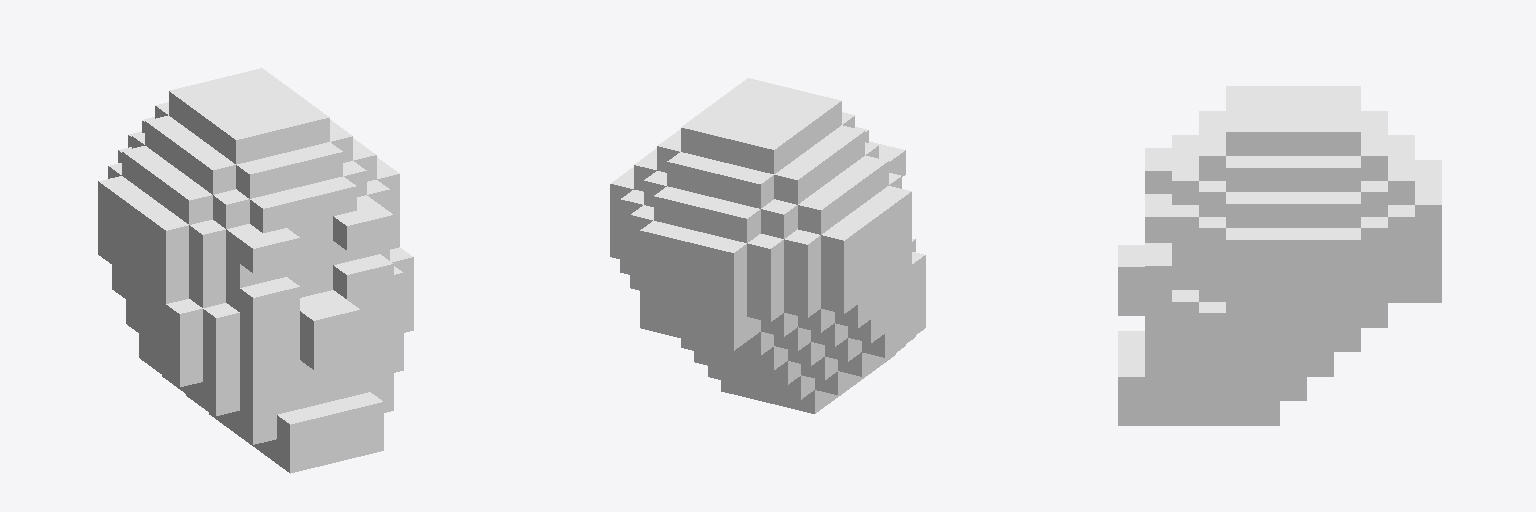
Rendered from Pelao.obj.
3 views of the same model, side by side, from view 1: azimuth 30°, elevation 25°; view 2: azimuth 150°, elevation 25°; view 3: azimuth 270°, elevation 25° (orthographic).
Visible parts, largest first — view 1: object 1; view 2: object 1; view 3: object 1.
Part boxes in pixels (x1,y1,x2,y2): object 1: (98, 68, 413, 473); object 1: (610, 78, 925, 413); object 1: (1118, 86, 1441, 425).
Size of the model in its own units: 1 by 1.2 by 1.2.